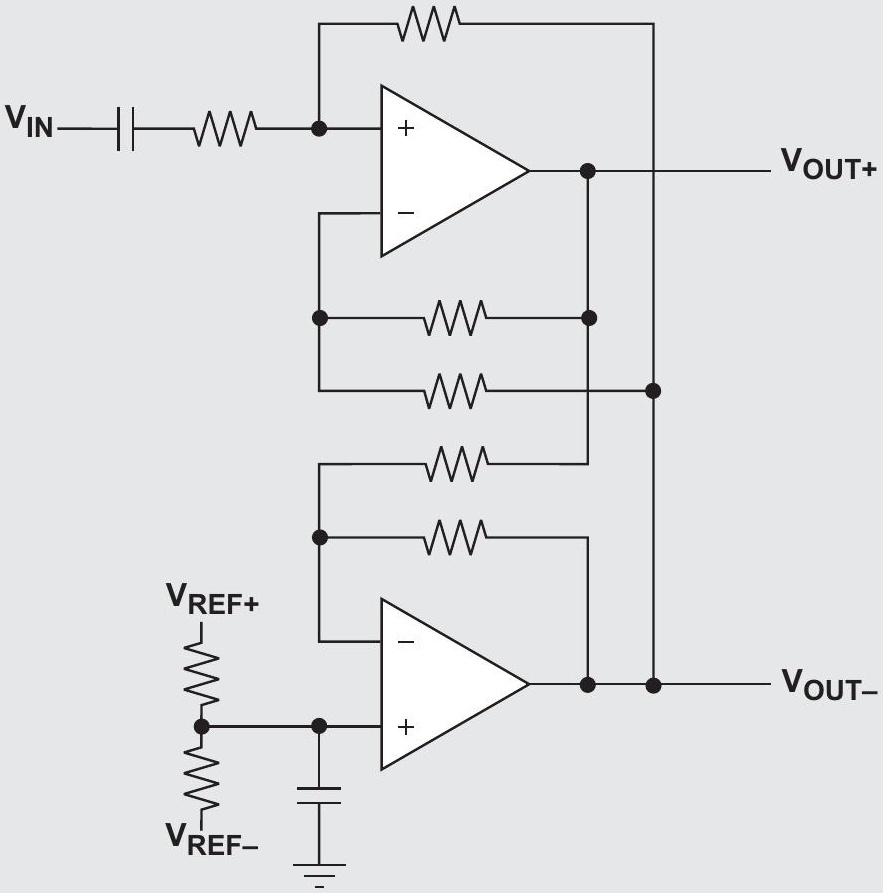capacity: (107, 102, 142, 156), (291, 779, 345, 811)
gnd: (285, 854, 350, 892)
op: (366, 75, 536, 265), (366, 589, 536, 778)
resistor: (384, 0, 471, 48), (184, 104, 263, 154), (416, 294, 494, 343), (418, 440, 495, 488), (416, 514, 494, 561), (416, 366, 493, 413), (176, 741, 224, 816), (177, 635, 224, 710)
